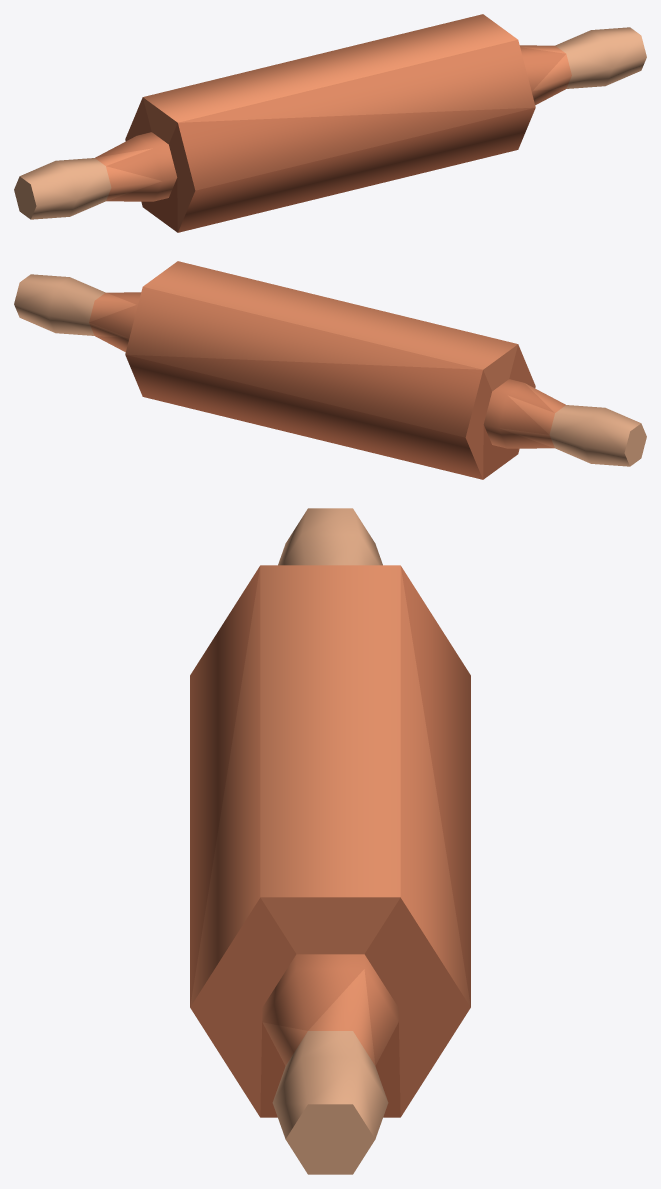
Rendered from rolo-massa.glb.
3 views of the same model, one above another, from view 1: azimuth 30°, elevation 25°; view 2: azimuth 150°, elevation 25°; view 3: azimuth 270°, elevation 25° (orthographic). The views are drawn at different scales.
Parts seen in each view (by area): view 1: rollingPin; view 2: rollingPin; view 3: rollingPin.
Boxes of the visible parts, x1=… form: rollingPin: x1=14, y1=14, x2=646, y2=232; rollingPin: x1=14, y1=261, x2=646, y2=479; rollingPin: x1=190, y1=508, x2=470, y2=1174.
Size of the model in its own units: 0.8137 by 0.1402 by 0.162.
